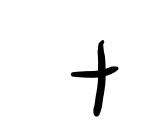plus: (71, 40, 120, 117)
